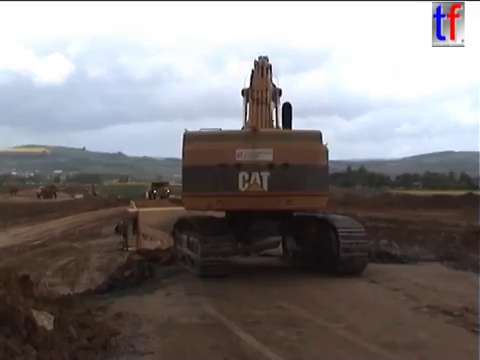excavator: (168, 52, 373, 279), (78, 181, 101, 200)
truck: (113, 199, 283, 281), (145, 178, 173, 201), (35, 183, 59, 201), (8, 186, 20, 197)
